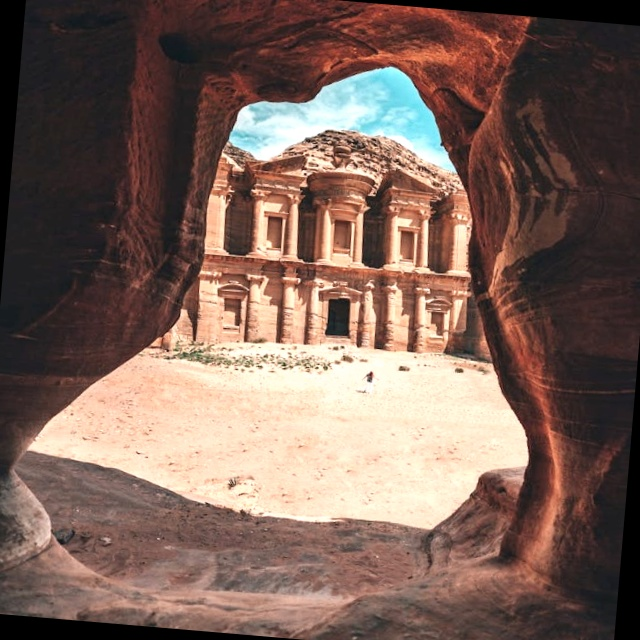contaminated_water: (13, 13, 627, 627)
foam_scum: (33, 343, 528, 528), (235, 94, 368, 161)
oil_spill: (0, 0, 134, 374), (370, 0, 640, 104), (544, 358, 640, 640)
turbid_water: (0, 0, 616, 640)
